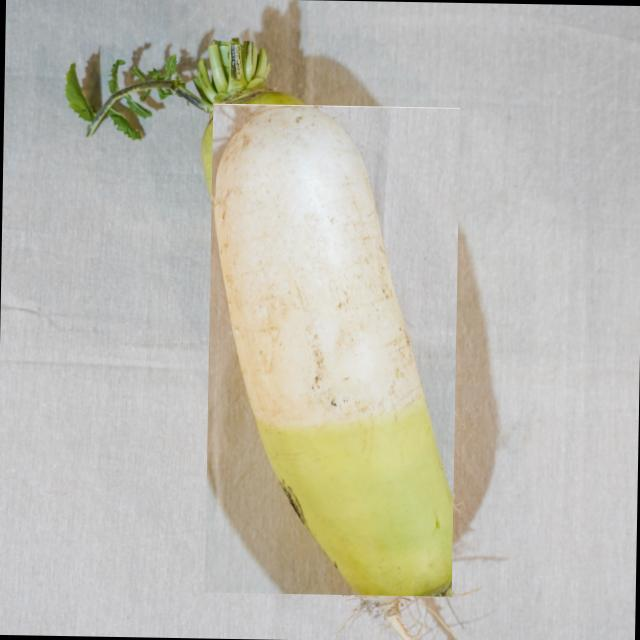radish: (203, 103, 460, 596)
